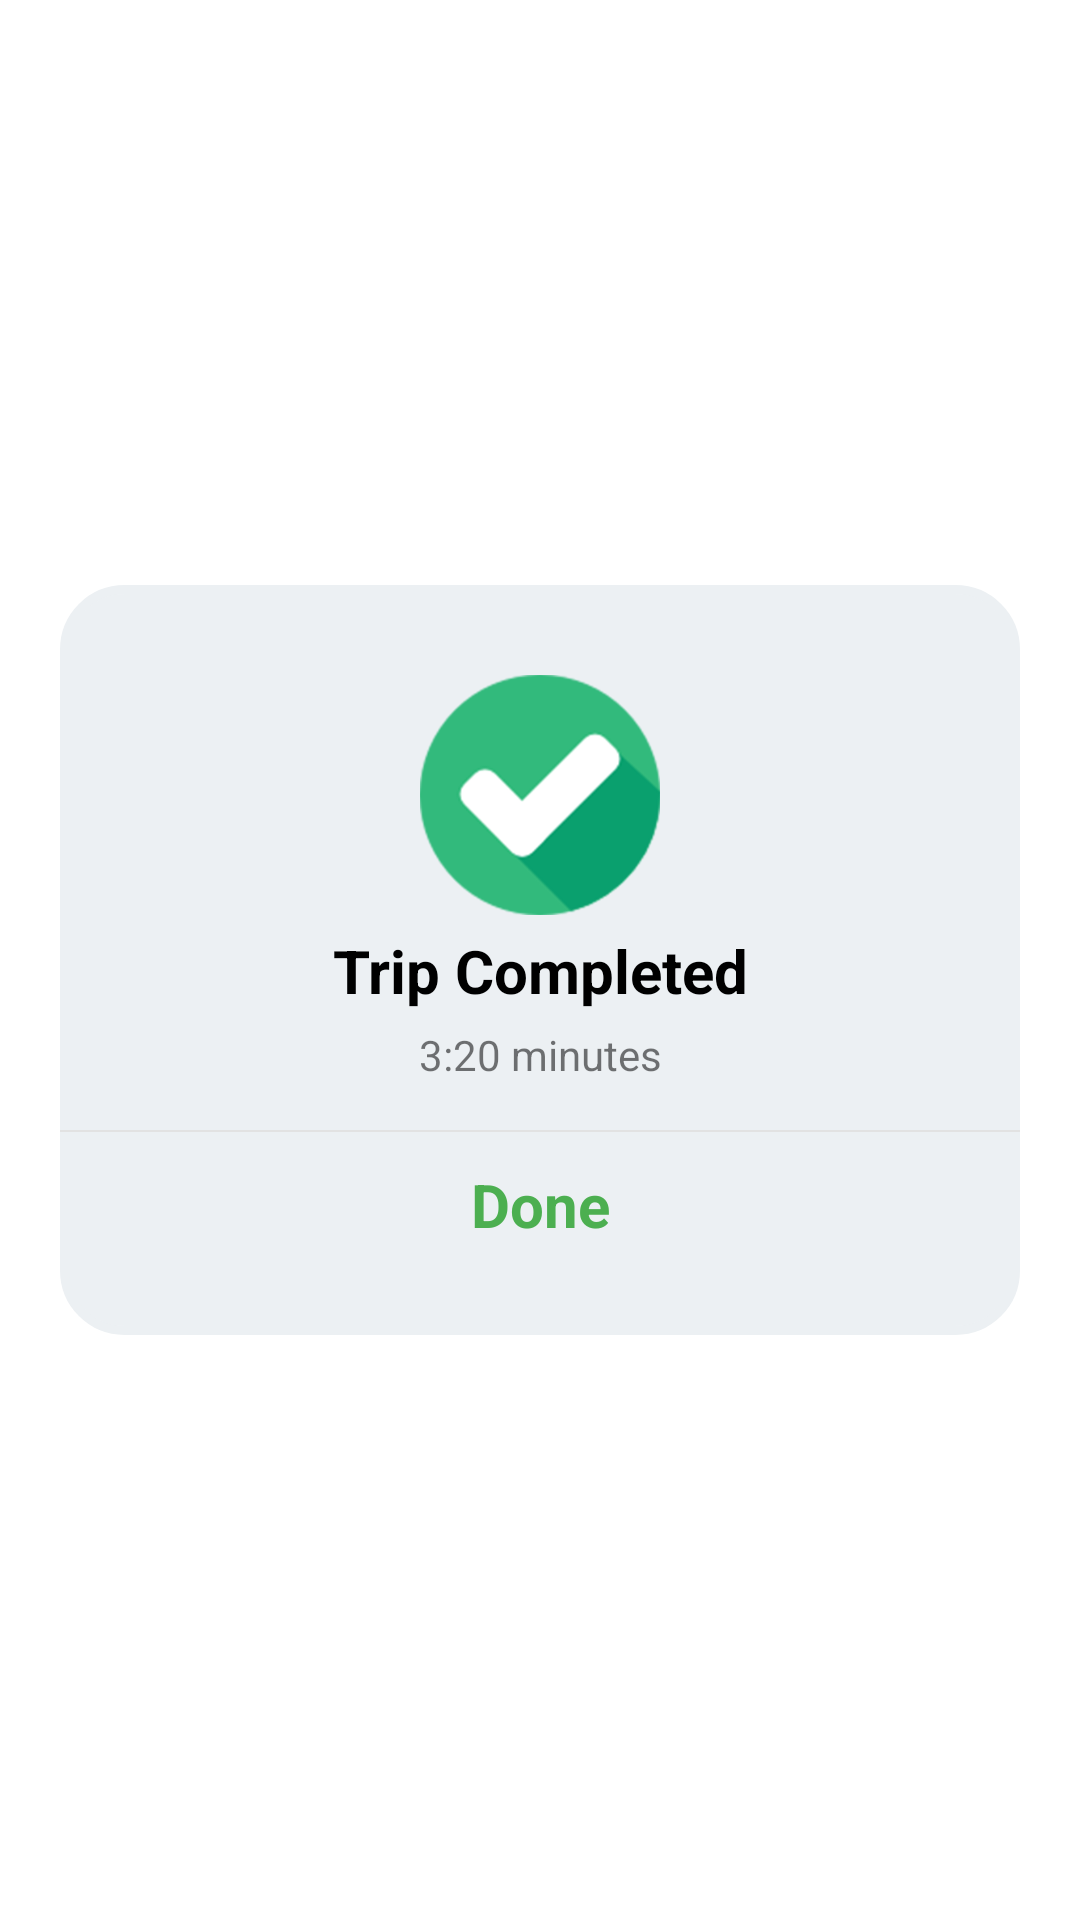

Icon click points for this 1080 x 1920 phone screenshot, format point (x, y):
checked: point (540, 795)
